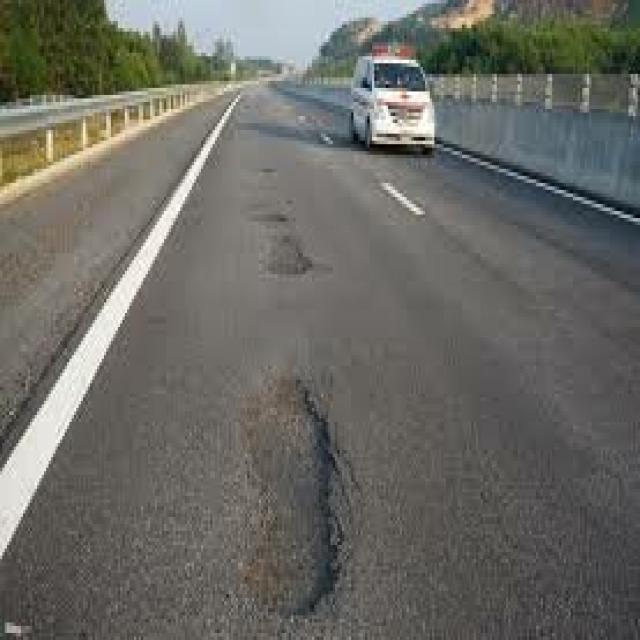Pothole: (212, 109, 392, 636)
